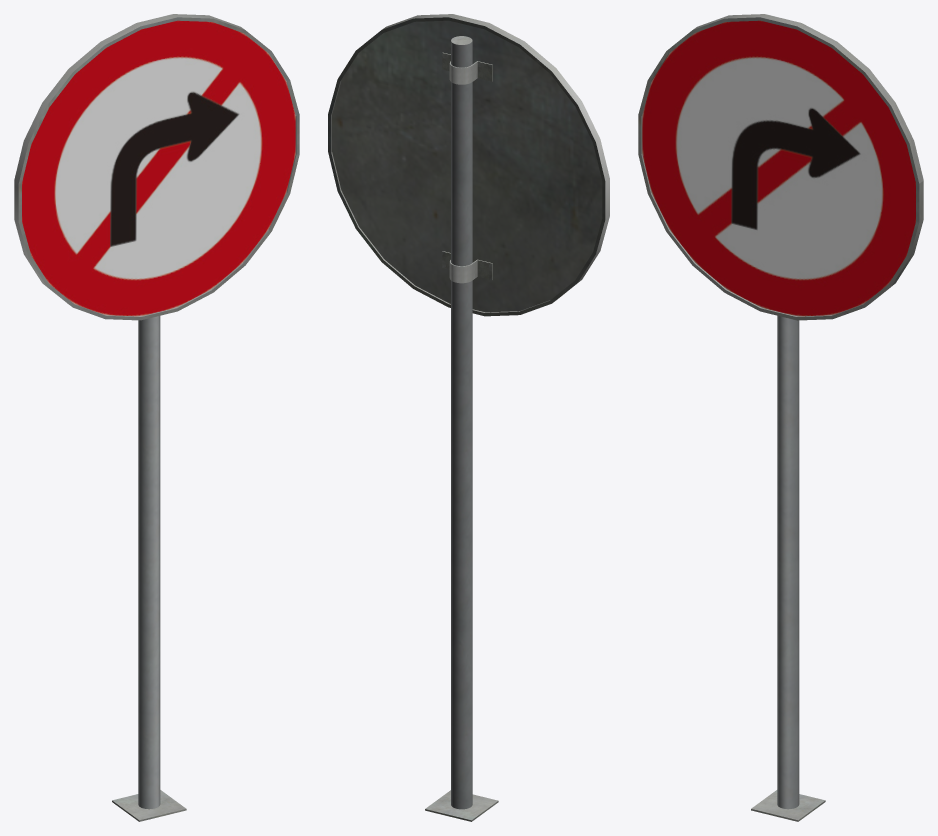
3 renders of one model, left to right at view 1: azimuth 30°, elevation 25°; view 2: azimuth 150°, elevation 25°; view 3: azimuth 330°, elevation 25°, orthographic.
Parts seen in each view (by area): view 1: MainBuilding; view 2: MainBuilding; view 3: MainBuilding.
Boxes of the visible parts, x1=… form: MainBuilding: x1=14, y1=14, x2=299, y2=821; MainBuilding: x1=328, y1=14, x2=609, y2=821; MainBuilding: x1=638, y1=14, x2=923, y2=821.
Size of the model in its own units: 0.8923 by 2.4 by 0.15.
Materials: 1 (1 with a texture image).
